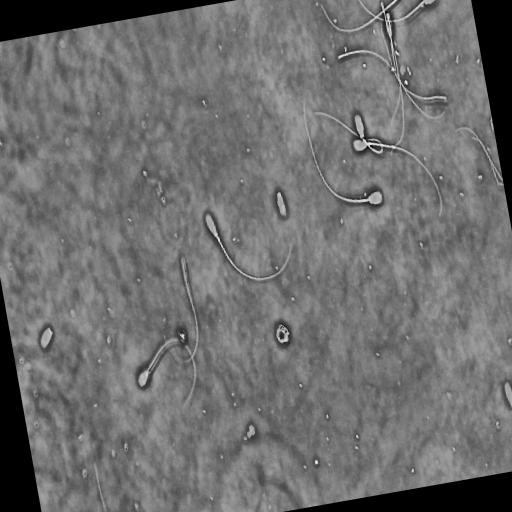dirt-particles: (273, 318, 292, 350), (177, 327, 188, 345)
folded-tail: (386, 13, 446, 118), (315, 112, 362, 138), (362, 138, 382, 153)
loose-head: (37, 324, 53, 351), (275, 189, 288, 218), (502, 378, 512, 409)
loose-tail: (383, 10, 447, 122), (379, 15, 448, 101), (453, 125, 503, 183), (174, 255, 200, 366), (318, 0, 401, 34), (335, 47, 394, 75)
normal: (299, 98, 384, 208), (351, 137, 443, 221), (201, 209, 294, 285), (135, 336, 197, 413), (310, 108, 383, 155), (355, 0, 437, 25)
proximal-droplet: (216, 235, 220, 241)
